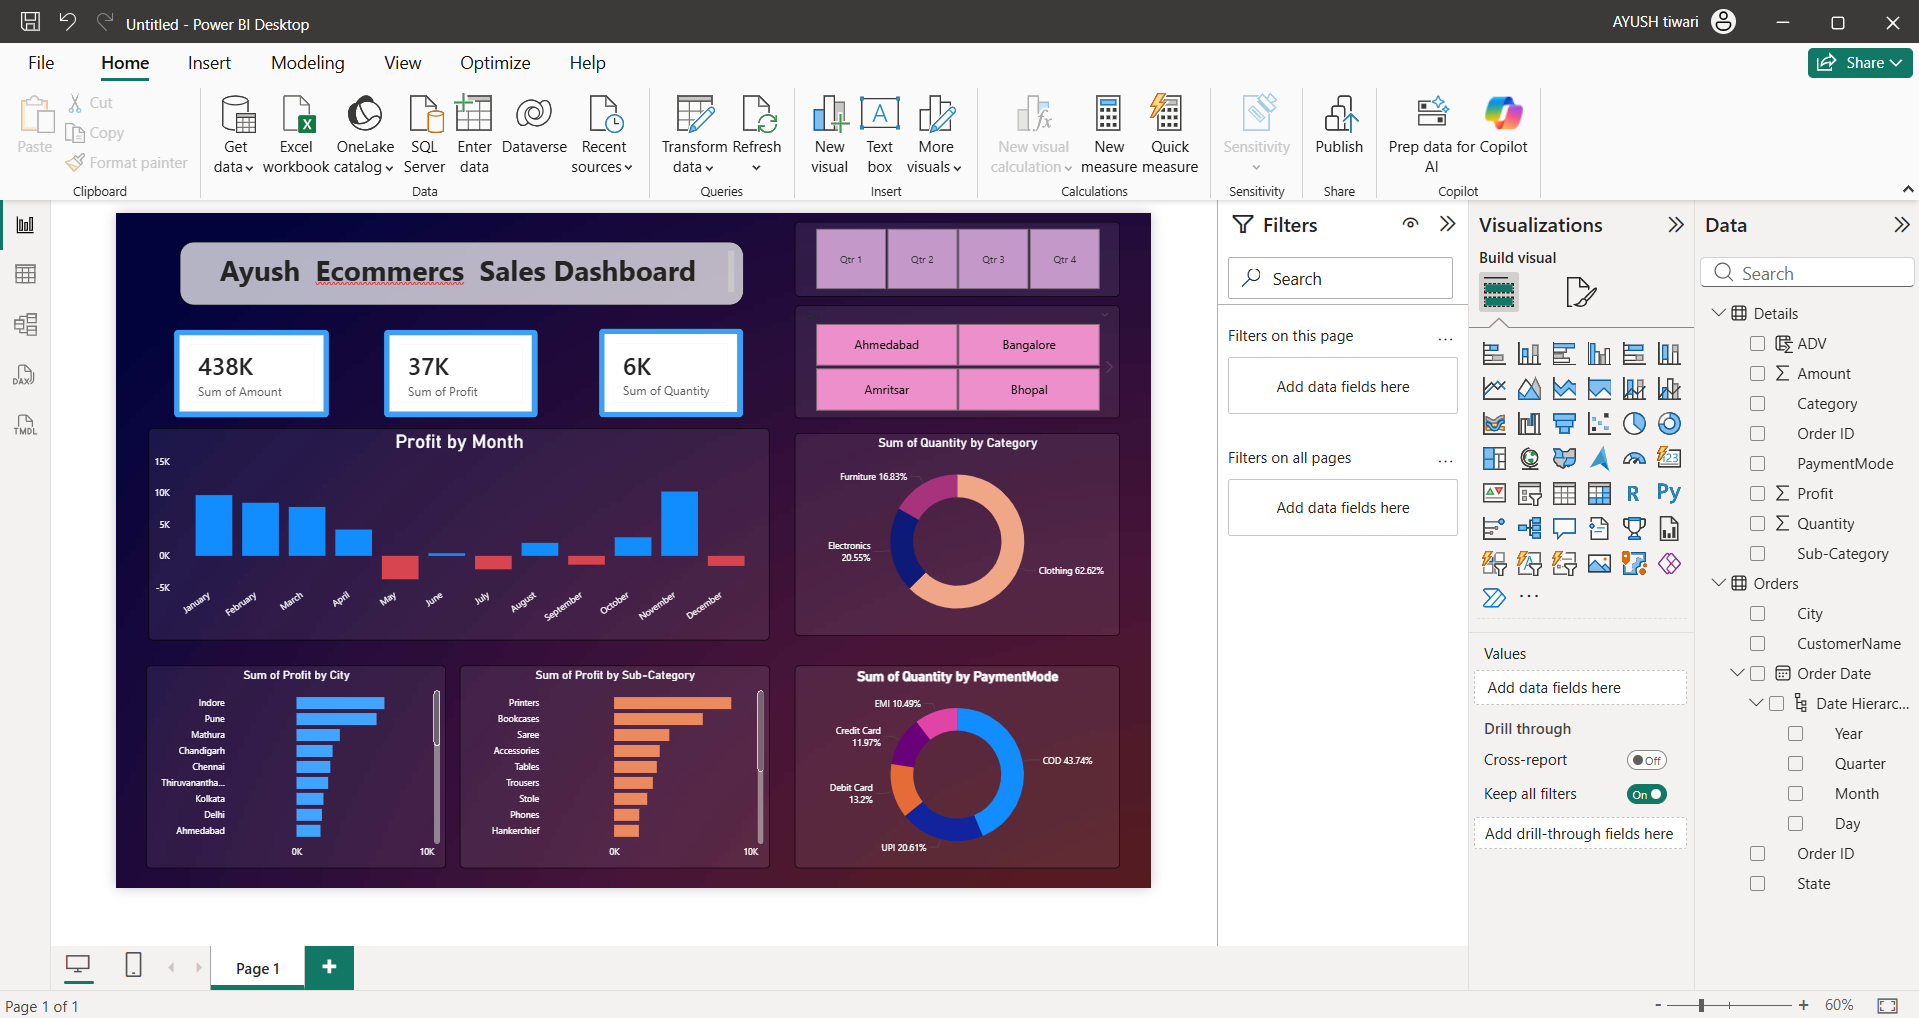

The page's visual inventory and layout, read from the dashboard file:
{"tool":"powerbi","page":{"name":"Page 1","canvas":[1380,900],"ordinal":0},"visuals":[{"type":"columnChart","title":"Profit by Month","fields":{"Category":["Orders.Order Date.Variation.Date Hierarchy.Month"],"Y":["Sum(Details.Profit)"]},"box":[43.3,286.7,828.3,283.3],"z":0},{"type":"barChart","fields":{"Category":["Details.Sub-Category"],"Y":["Sum(Details.Profit)"]},"box":[458.3,603.3,413.3,270],"z":1000},{"type":"donutChart","fields":{"Category":["Details.Category"],"Y":["Sum(Details.Quantity)"]},"box":[905,293.3,433.3,270],"z":2000},{"type":"donutChart","fields":{"Category":["Details.PaymentMode","Details.Category"],"Y":["Sum(Details.Quantity)"]},"box":[905,603.3,433.3,270],"z":3000},{"type":"cardVisual","fields":{"Data":["Sum(Details.Amount)"]},"box":[76.7,155,208.3,118.3],"z":4000},{"type":"cardVisual","fields":{"Data":["Sum(Details.Profit)"]},"box":[356.7,155,206.7,118.3],"z":5000},{"type":"cardVisual","fields":{"Data":["Sum(Details.Quantity)"]},"box":[643.3,153.3,193.3,120],"z":6000},{"type":"barChart","fields":{"Category":["Orders.City"],"Y":["Sum(Details.Profit)"]},"box":[40,603.3,400,270],"z":8000},{"type":"textbox","box":[85,38.3,751.7,85],"z":9000},{"type":"slicer","fields":{"Values":["Orders.Order Date.Variation.Date Hierarchy.Quarter"]},"box":[905,11.7,433.3,100],"z":9001},{"type":"slicer","fields":{"Values":["Orders.City"]},"box":[905,123.3,433.3,150],"z":9002}]}

Visuals, with their boxes on the page's 1380x900 design canvas (x1, y1, x2, y2). These are canvas units, not pixel positions in the 1919x1018 screenshot, which may show the page scaled, cropped or inside an application window:
"Profit by Month" columnChart: <box>43,287,872,570</box>
barChart - Details.Sub-Category x Sum(Details.Profit): <box>458,603,872,873</box>
donutChart - Details.Category x Sum(Details.Quantity): <box>905,293,1338,563</box>
donutChart - Details.PaymentMode x Details.Category: <box>905,603,1338,873</box>
cardVisual - Sum(Details.Amount): <box>77,155,285,273</box>
cardVisual - Sum(Details.Profit): <box>357,155,563,273</box>
cardVisual - Sum(Details.Quantity): <box>643,153,837,273</box>
barChart - Orders.City x Sum(Details.Profit): <box>40,603,440,873</box>
textbox: <box>85,38,837,123</box>
slicer - Orders.Order Date.Variation.Date Hierarchy.Quarter: <box>905,12,1338,112</box>
slicer - Orders.City: <box>905,123,1338,273</box>
